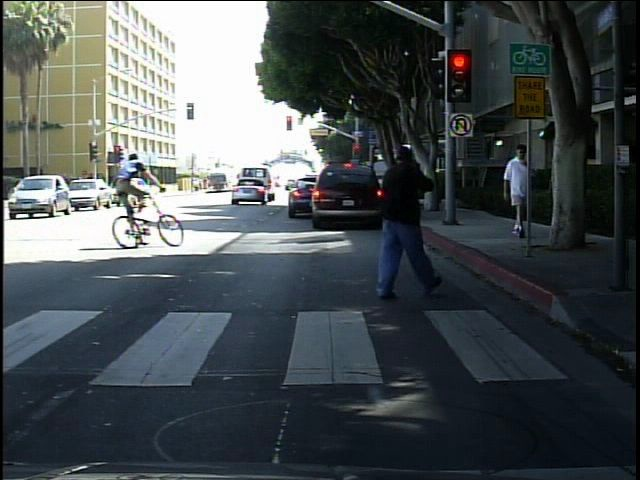person: (366, 135, 439, 303), (96, 135, 158, 239), (553, 138, 589, 244), (501, 139, 534, 239)
